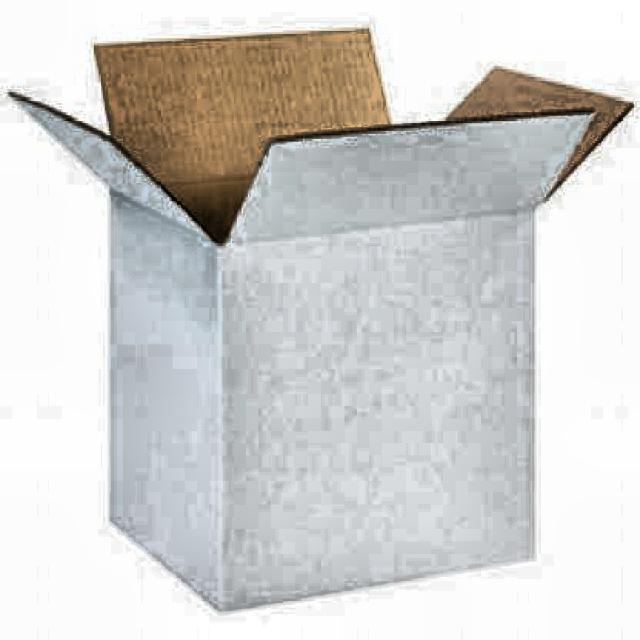Cardbox: (80, 3, 640, 619)
